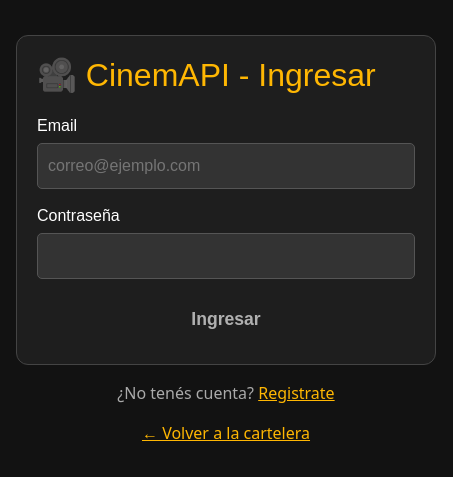
it: Login › muestra el mensaje del backend cuando las credenciales son incorrectas
Type "cliente@cinemapi.com" into the field labelled "Email".
click(226, 166); type("cliente@cinemapi.com")  # box [37, 143, 415, 189]
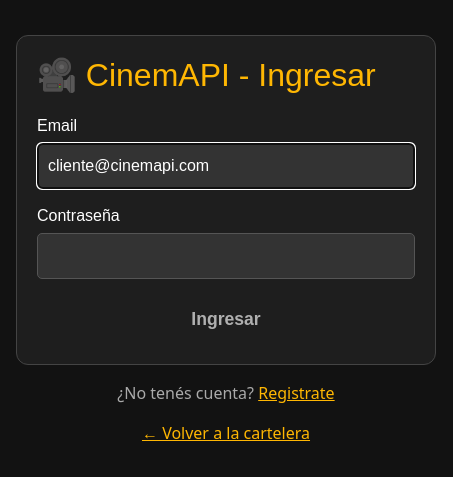
Type "incorrecta" into the password field labelled "Contraseña".
click(226, 256); type("incorrecta")  # box [37, 233, 415, 279]
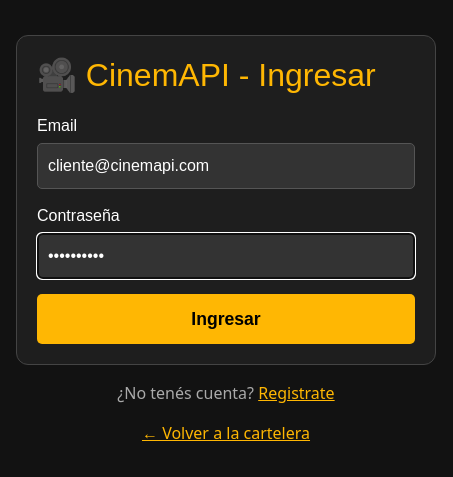
Click the button "Ingresar".
click(226, 319)  # box [37, 294, 415, 344]
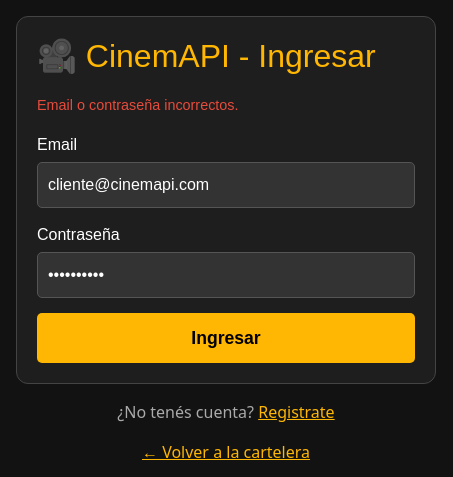
Check: the text "Email o contraseña incorrectos." is shown, box [37, 97, 239, 113]
